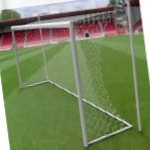goals: (11, 11, 133, 149)
